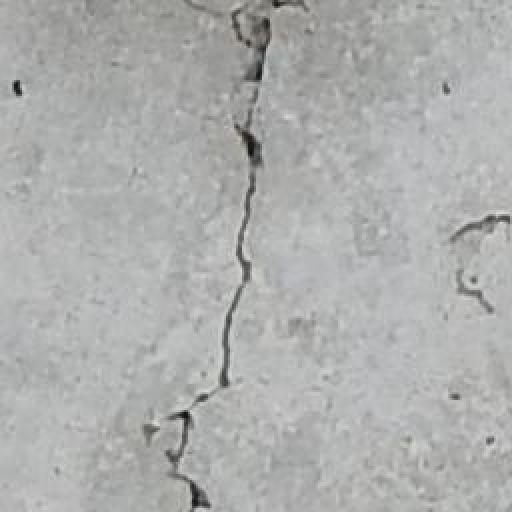spalling: (143, 4, 293, 507)
